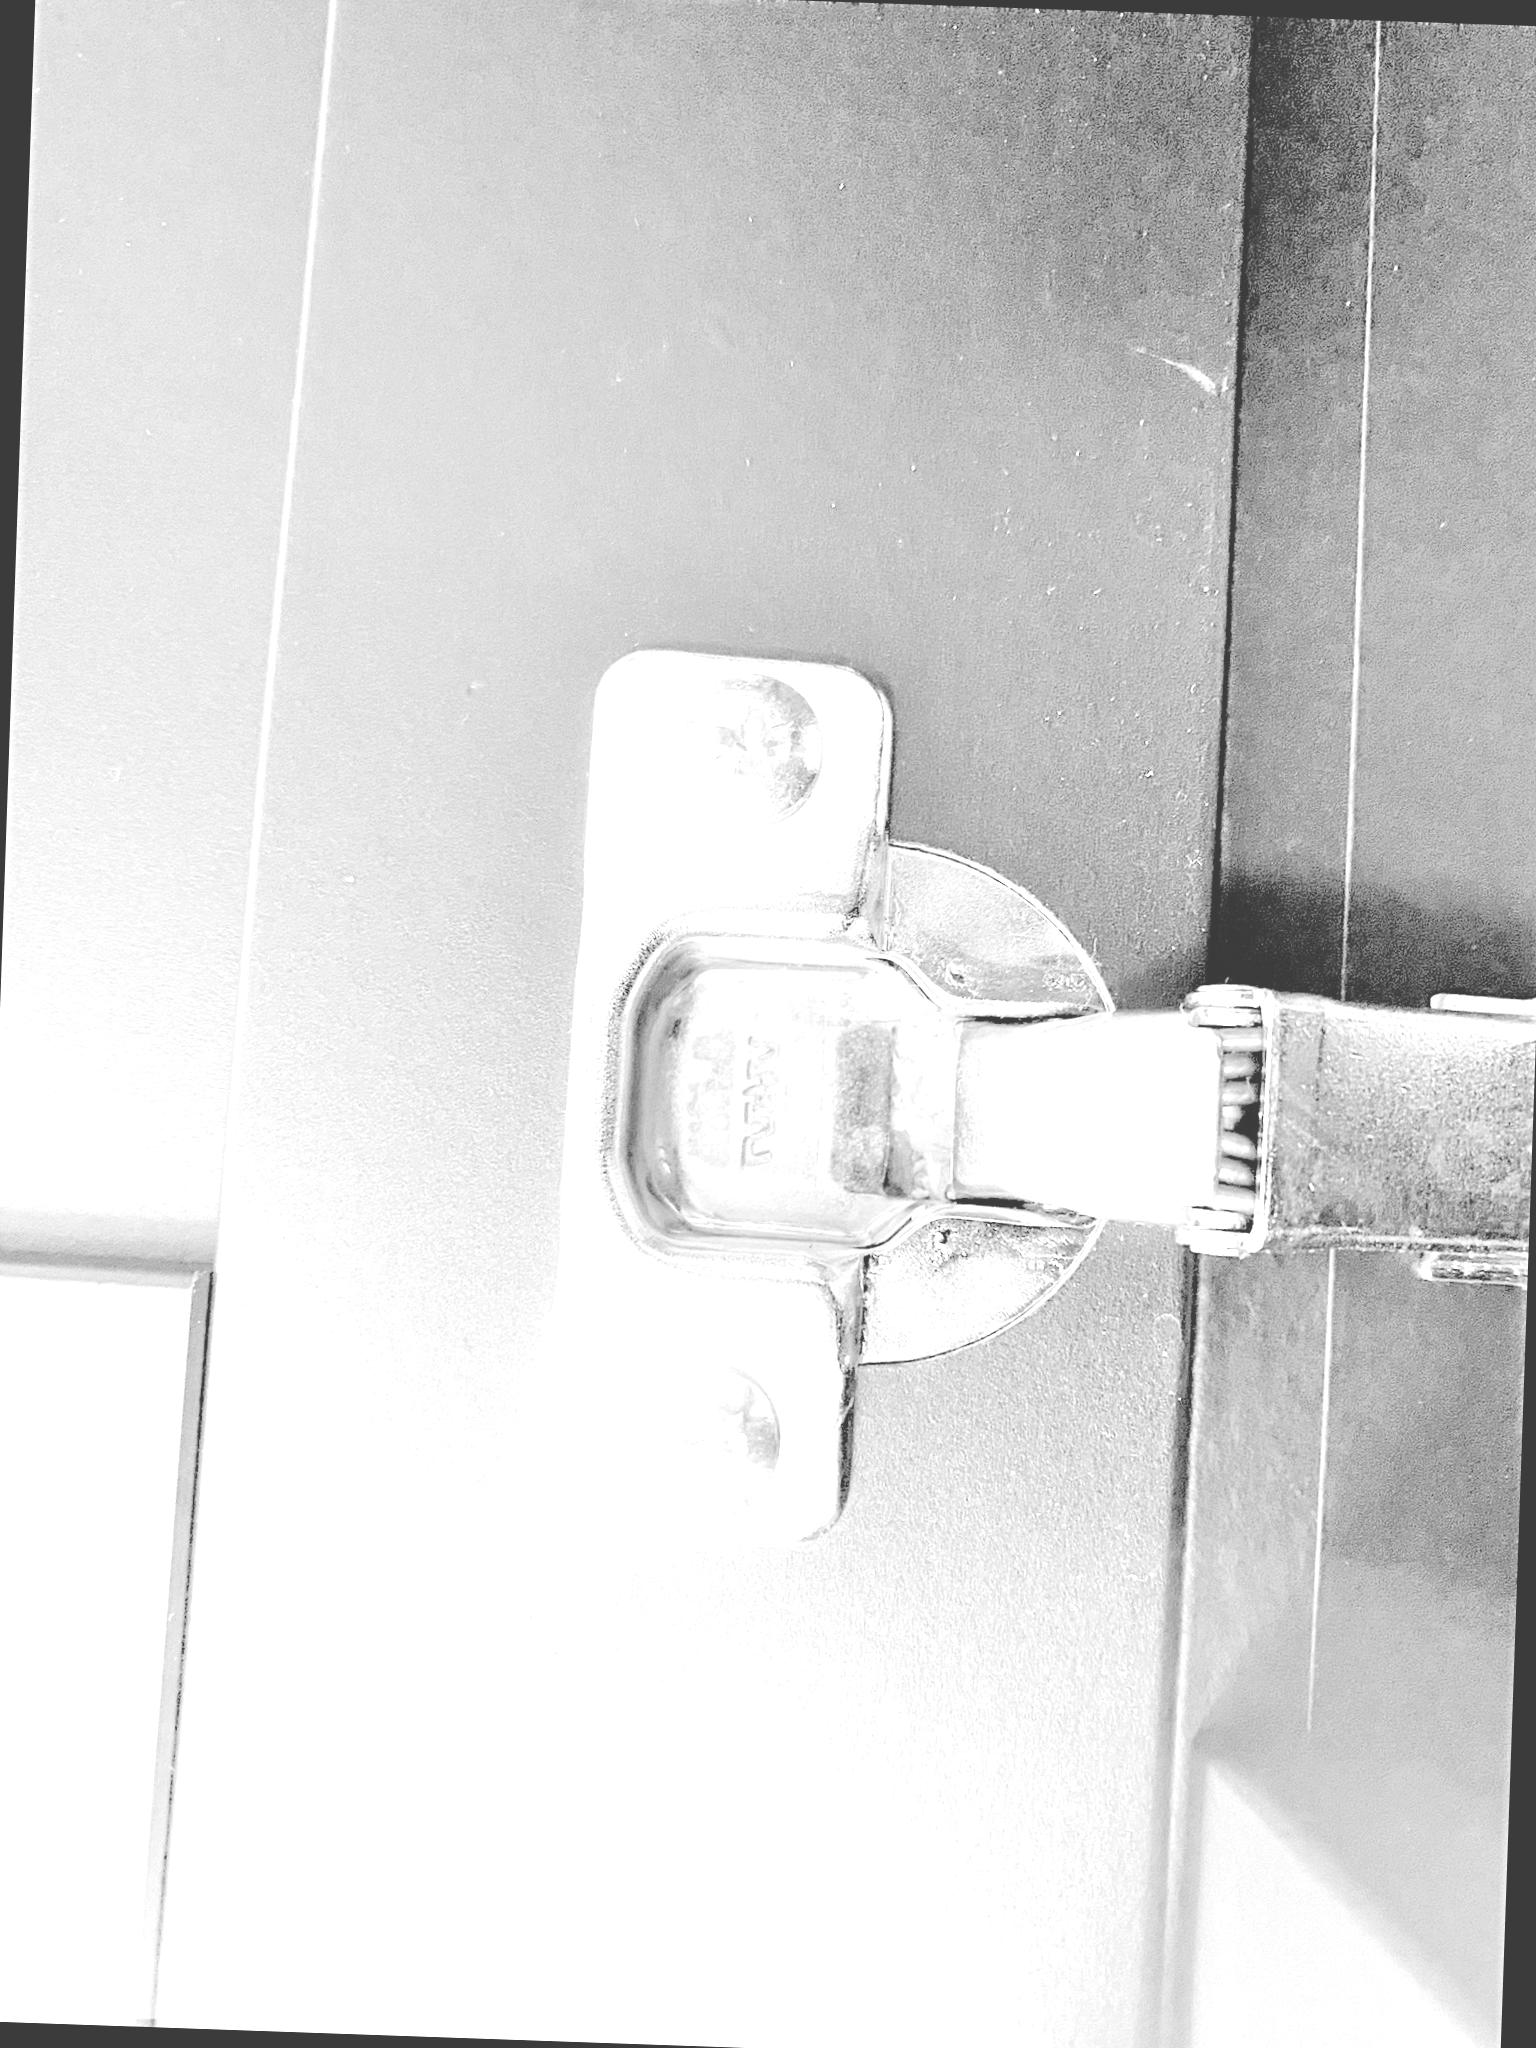philips-PZ: (624, 1359, 783, 1529), (670, 669, 828, 832)
